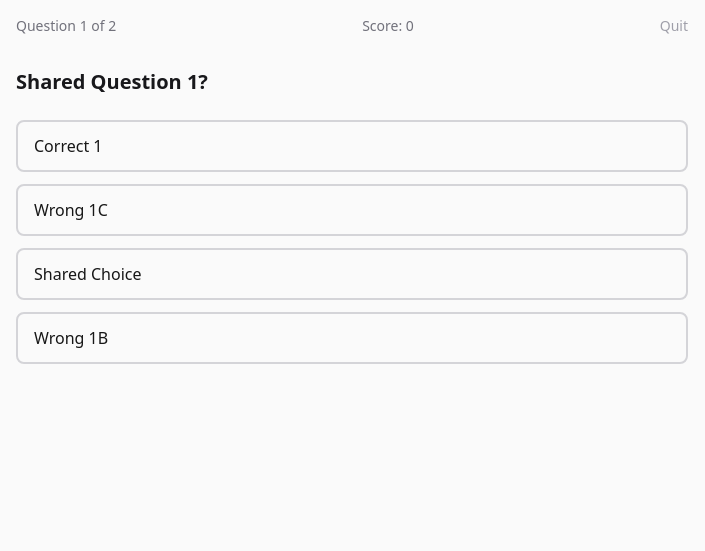
Test: QuizPage › resets selected answer styling between questions when answers overlap
Expected: the text "Question 1 of 2" is shown, [16,16,116,36]
Step 1. Click the button "Shared Choice" → (88, 274), box [16,248,688,300]
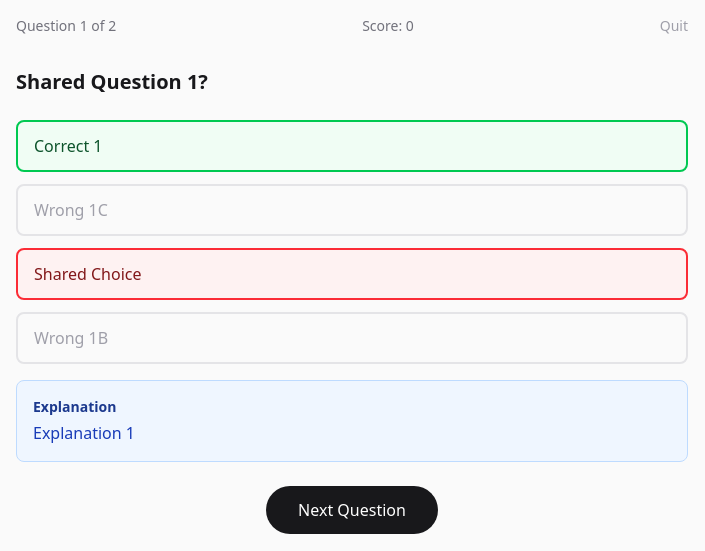
Step 2. Click the button "Next Question" → (352, 510), box [266,486,438,534]
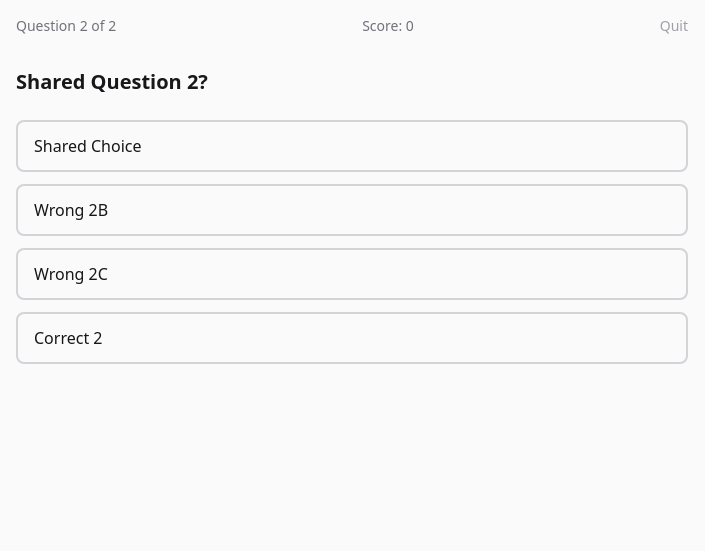
Now the text "Question 2 of 2" is shown, box [16,16,116,36]
